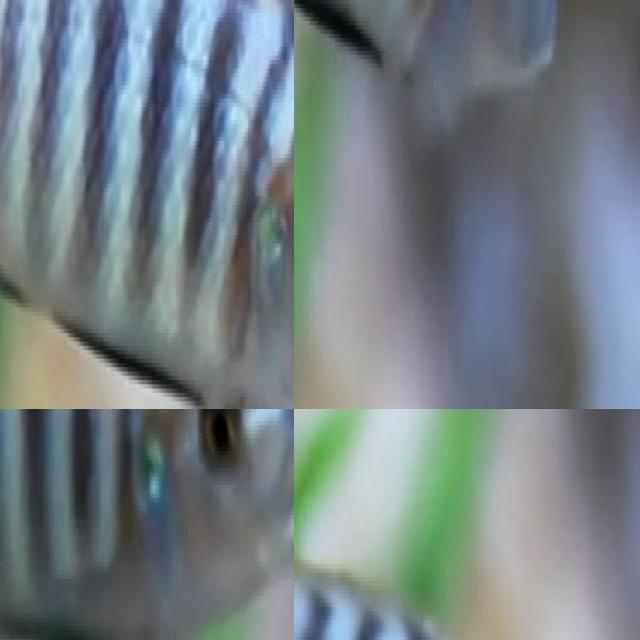fish: (0, 0, 294, 409), (294, 0, 563, 170)
